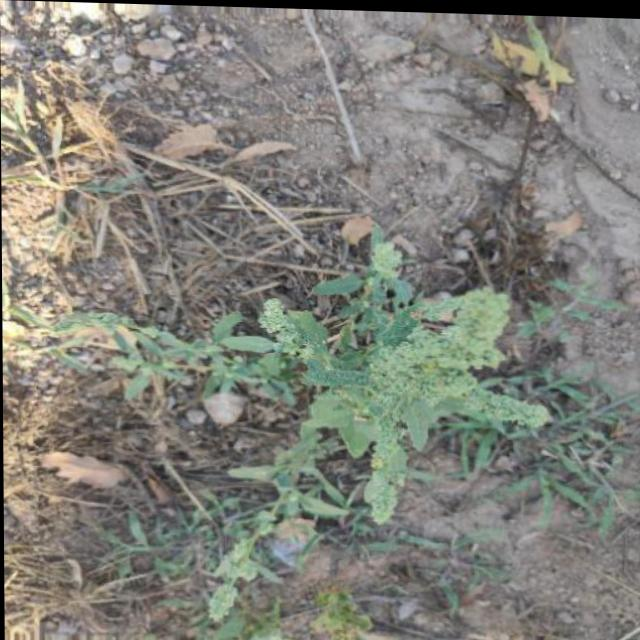weed: (81, 237, 563, 588)
